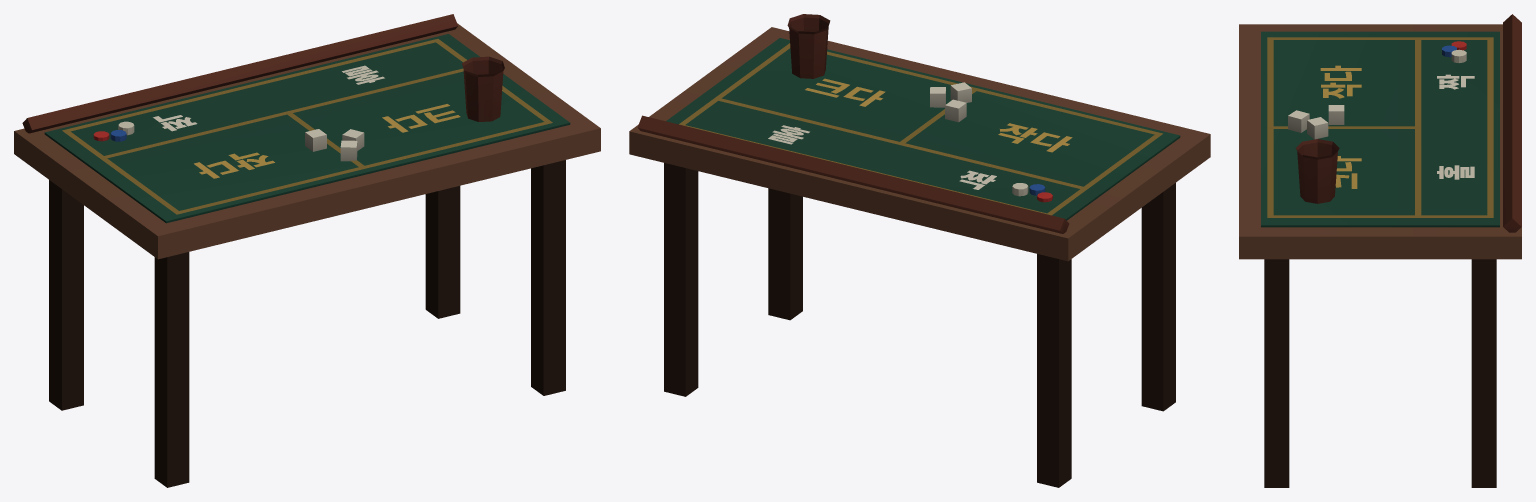
File: table_dice_low.glb
The picture shows the model from 3 angles, left to right: view 1: azimuth 30°, elevation 25°; view 2: azimuth 150°, elevation 25°; view 3: azimuth 270°, elevation 25°; orthographic projection.
Parts seen in each view (by area): view 1: table_dice, cup; view 2: table_dice, cup; view 3: table_dice, cup, die_1, die_2, die_0.
Boxes of the visible parts, box(x1,y1,x2,y2) form: table_dice: box(14, 14, 600, 487); cup: box(462, 56, 504, 121); table_dice: box(629, 27, 1210, 487); cup: box(787, 14, 830, 78); table_dice: box(1239, 14, 1521, 487); cup: box(1295, 139, 1339, 203); die_1: box(1307, 117, 1328, 139); die_2: box(1288, 110, 1309, 132); die_0: box(1328, 105, 1344, 124).
Bounding box in the file's own units: 1.6 × 1.1 × 0.9.
